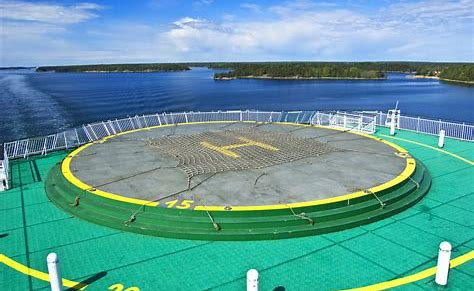H: (195, 135, 281, 158)
